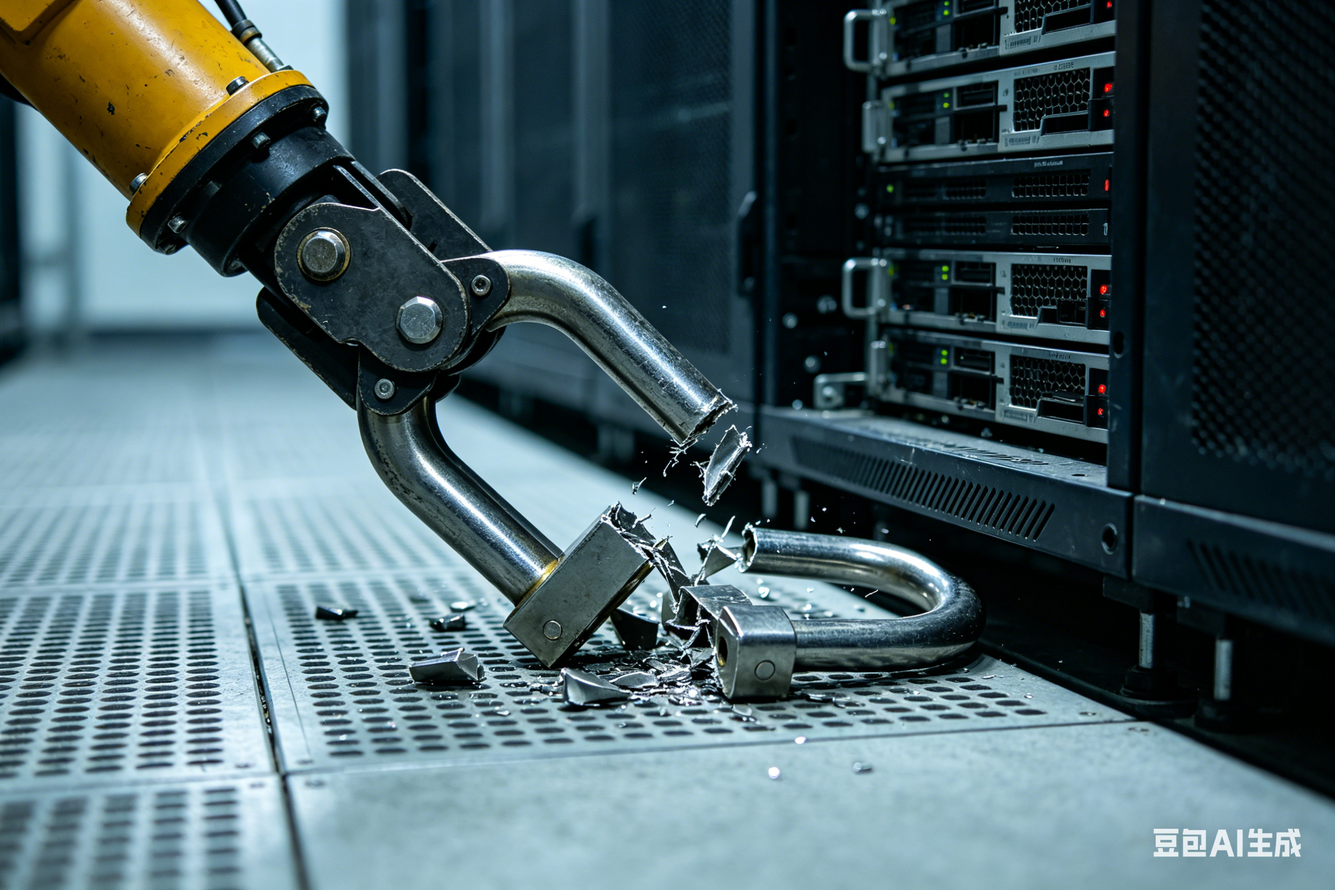BadLock: (610, 395, 787, 677)
